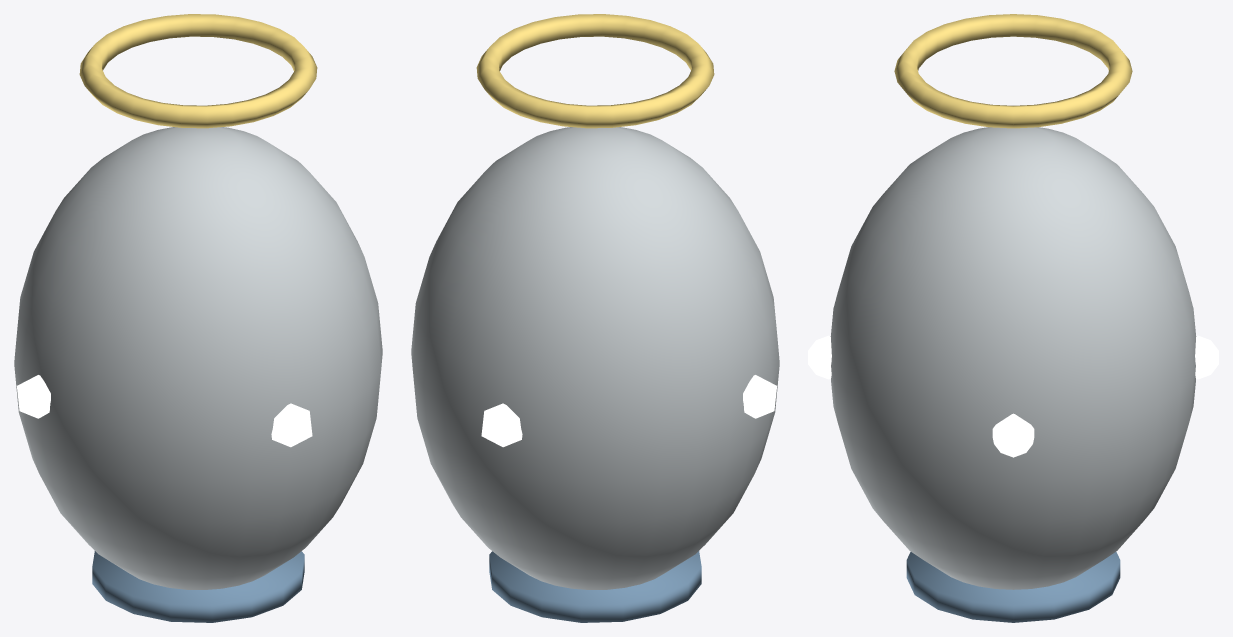
File: egg_snow_07.glb
3 renders of one model, left to right at view 1: azimuth 30°, elevation 25°; view 2: azimuth 150°, elevation 25°; view 3: azimuth 270°, elevation 25°, orthographic.
Visible parts, largest first — view 1: ball; view 2: ball; view 3: ball.
Part boxes in pixels (bbox=[...]): ball: bbox=[14, 14, 382, 622]; ball: bbox=[411, 14, 779, 622]; ball: bbox=[808, 14, 1218, 622].
Size of the model in its own units: 0.8494 by 1.17 by 0.8451.
